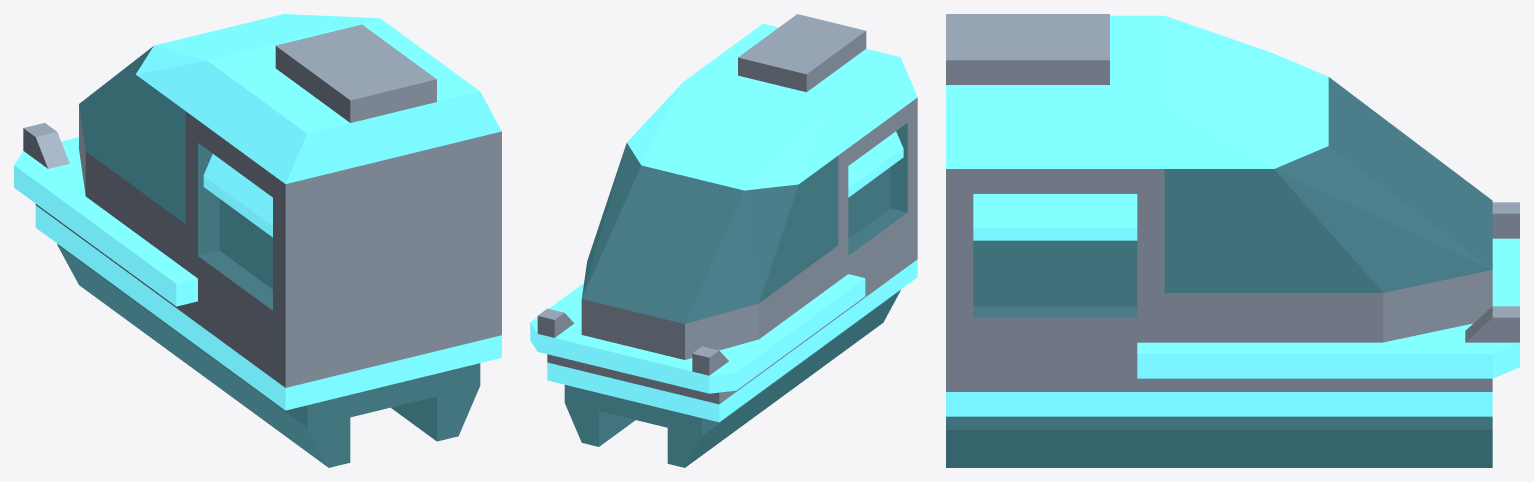
File: monorail_trainFront.glb
3 renders of one model, left to right at view 1: azimuth 30°, elevation 25°; view 2: azimuth 150°, elevation 25°; view 3: azimuth 270°, elevation 25°, orthographic. The views are drawn at different scales.
Parts seen in each view (by area): view 1: monorail_trainFront; view 2: monorail_trainFront; view 3: monorail_trainFront.
Boxes of the visible parts, left/top/right/bottom form: monorail_trainFront: left=14, top=14, right=501, bottom=467; monorail_trainFront: left=530, top=14, right=917, bottom=467; monorail_trainFront: left=946, top=14, right=1519, bottom=467.
Size of the model in its own units: 0.6 by 0.8 by 1.05.
